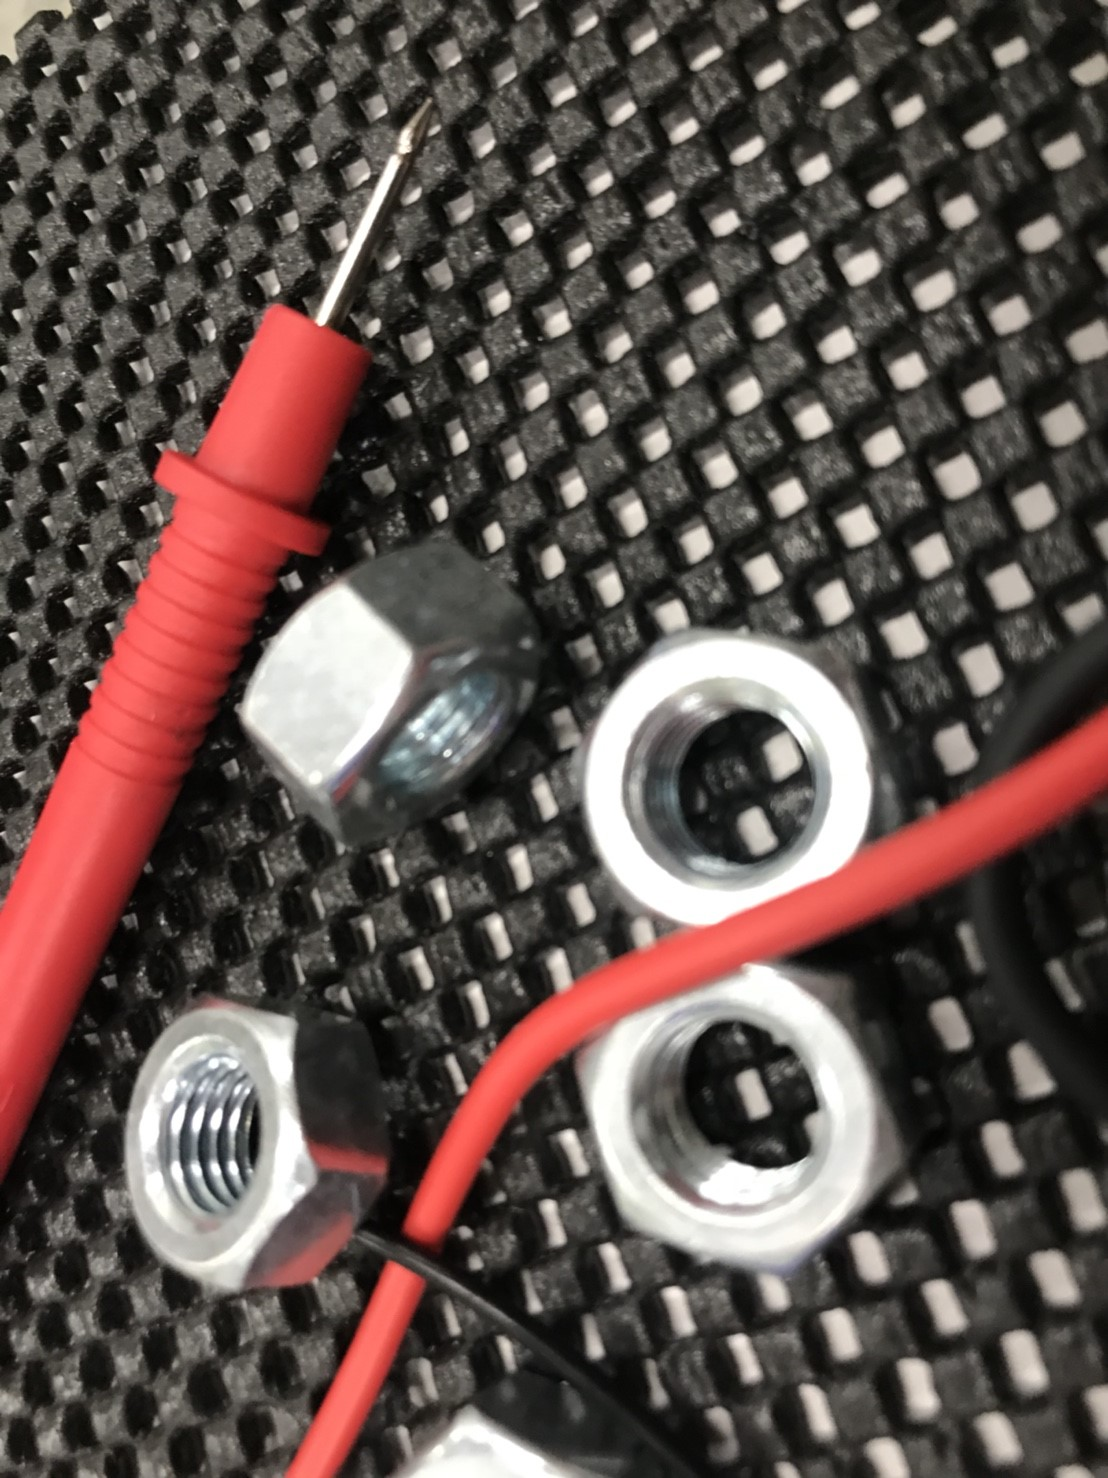nut: (539, 951, 926, 1274), (230, 519, 556, 859), (585, 612, 909, 947), (100, 997, 390, 1293)
